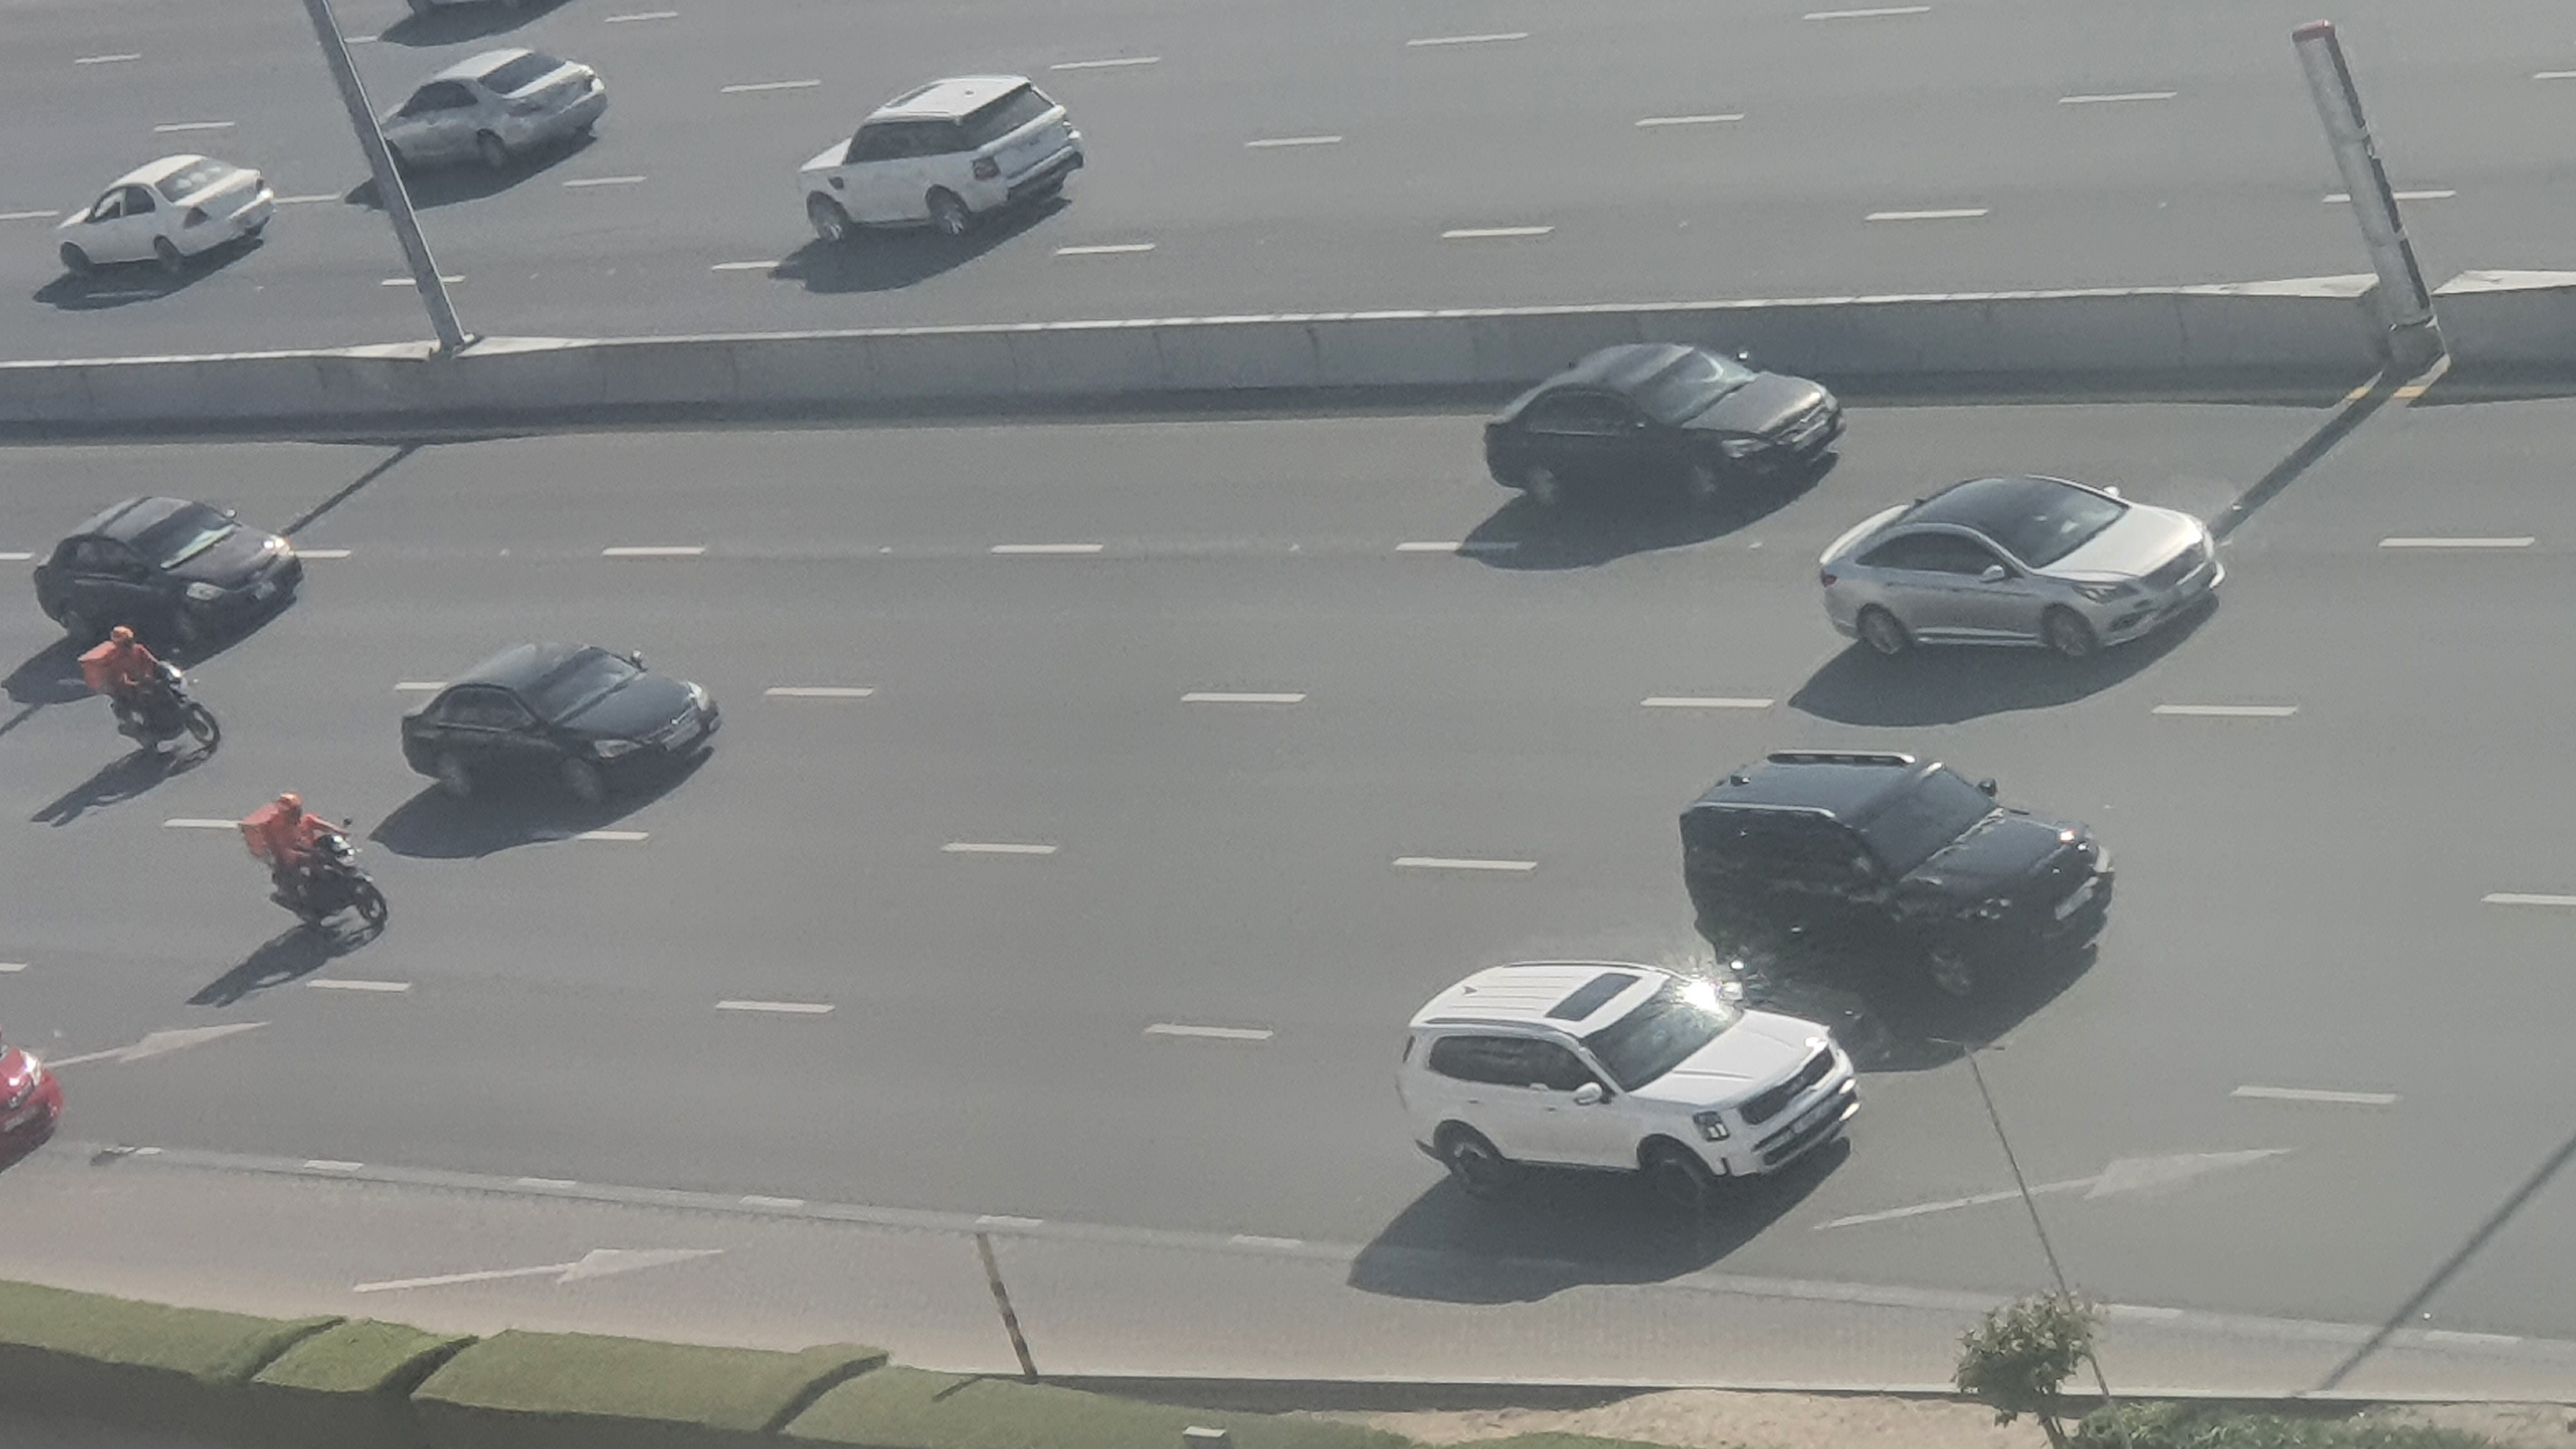NotSunroof: (1675, 748, 2112, 993), (384, 642, 738, 817), (30, 494, 310, 649)
Sunroof: (1384, 955, 1861, 1212), (1813, 467, 2229, 656), (1474, 329, 1840, 508)
